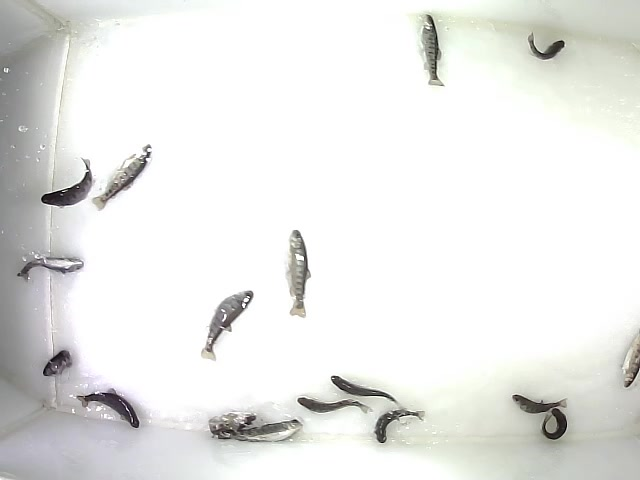fish: (91, 143, 154, 212), (199, 288, 255, 363), (40, 157, 96, 209), (75, 387, 141, 429), (330, 374, 405, 409), (284, 227, 312, 320), (216, 418, 303, 443), (373, 409, 430, 445), (419, 13, 446, 89), (16, 255, 85, 283), (297, 395, 372, 414), (207, 411, 258, 438), (511, 393, 570, 416), (526, 31, 566, 62), (541, 407, 569, 442), (42, 349, 73, 378)
